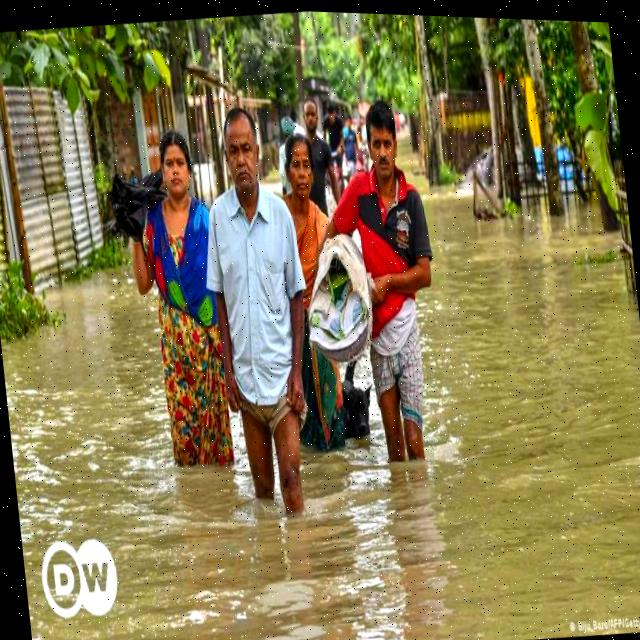civilian: (192, 85, 328, 541), (328, 77, 466, 481), (88, 122, 242, 481), (270, 121, 370, 470), (279, 82, 349, 225)
